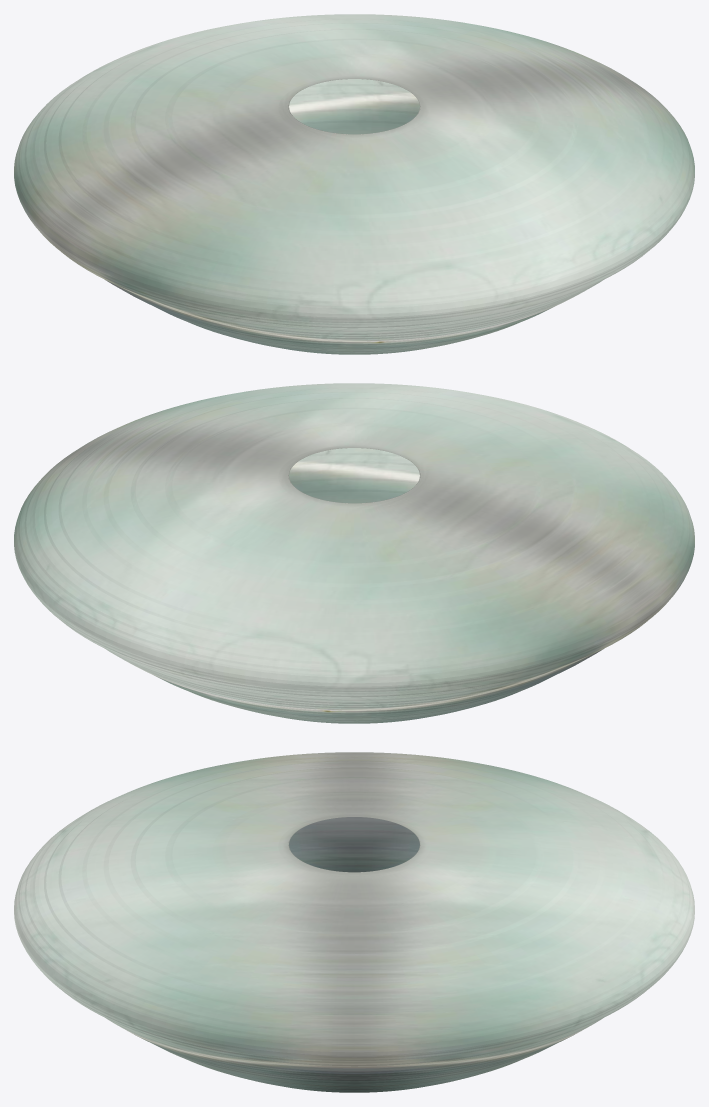
The model's file is cma-76522.glb.
3 renders of one model, top to bottom at view 1: azimuth 30°, elevation 25°; view 2: azimuth 150°, elevation 25°; view 3: azimuth 270°, elevation 25°, orthographic.
Parts seen in each view (by area): view 1: geometry_0; view 2: geometry_0; view 3: geometry_0.
Boxes of the visible parts, <box> form: geometry_0: <box>14,14,694,354</box>; geometry_0: <box>14,383,694,723</box>; geometry_0: <box>14,752,694,1092</box>.
Bounding box in the file's own units: 84.67 × 30 × 84.67.
Materials: 1 (1 with a texture image).
